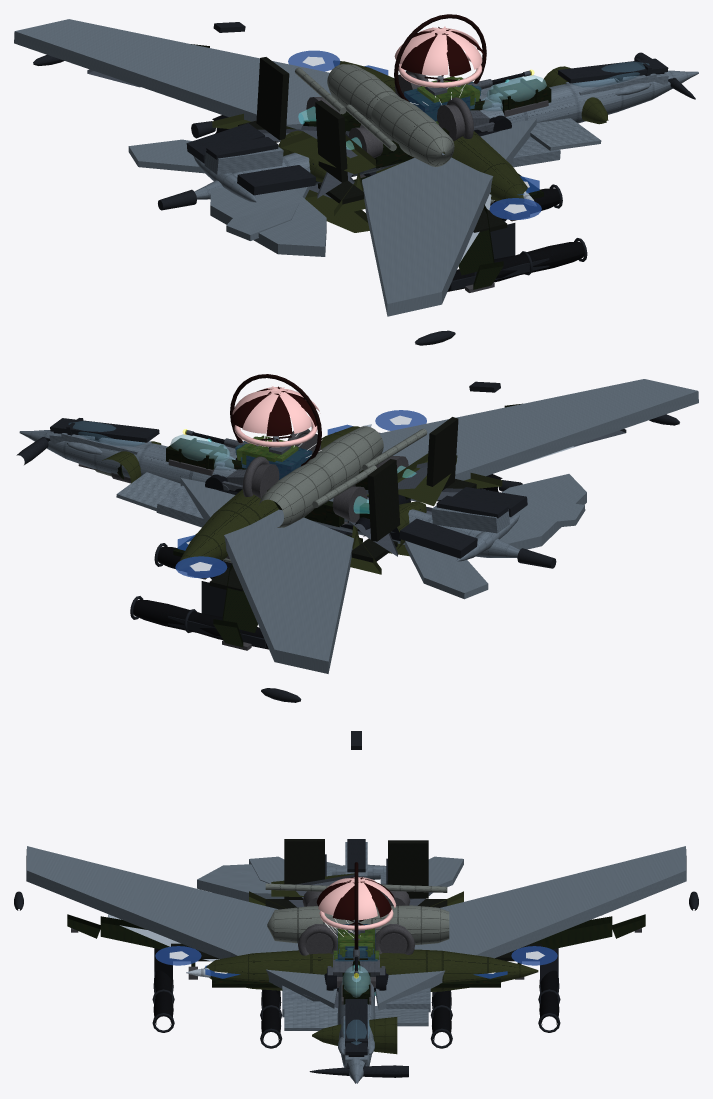
Rendered from airstrike_assets.glb.
3 views of the same model, one above another, from view 1: azimuth 30°, elevation 25°; view 2: azimuth 150°, elevation 25°; view 3: azimuth 270°, elevation 25° (orthographic). The views are drawn at different scales.
Parts seen in each view (by area): view 1: bomber_wing_right, bomber_wing_left, bomber_hull_merged, bomber_vertical_fin, warthog_engine_right, warthog_fuselage, warthog_engine_left, warthog_rudder_left, warthog_rudder_right, bomber_stab_left, bomber_tail_root_1, bomber_root_strake_1 (+35 smaller); view 2: bomber_wing_left, bomber_wing_right, bomber_hull_merged, warthog_fuselage, bomber_vertical_fin, warthog_engine_left, bomber_stab_left, warthog_engine_right, warthog_rudder_left, bomber_tail_root_0, warthog_rudder_right, bomber_cockpit_deck (+33 smaller); view 3: bomber_wing_right, bomber_wing_left, warthog_fuselage, warthog_rudder_left, warthog_engine_left, bomber_vertical_fin, warthog_rudder_right, warthog_engine_right, bomber_root_strake_1, warthog_outer_wing_left, warthog_nose_section, bomber_cockpit_deck (+15 smaller).
Part boxes in pixels (<box>): bomber_wing_right: <box>362,119,536,316</box>; bomber_wing_left: <box>14,19,488,129</box>; bomber_hull_merged: <box>194,70,698,199</box>; bomber_vertical_fin: <box>210,187,326,256</box>; warthog_engine_right: <box>371,95,454,166</box>; warthog_fuselage: <box>333,61,528,203</box>; warthog_engine_left: <box>327,64,398,123</box>; warthog_rudder_left: <box>256,57,289,140</box>; warthog_rudder_right: <box>315,100,347,182</box>; bomber_stab_left: <box>128,139,232,173</box>; bomber_tail_root_1: <box>237,165,315,195</box>; bomber_root_strake_1: <box>530,118,601,150</box>; bomber_wing_left: <box>180,478,353,673</box>; bomber_wing_right: <box>228,379,698,480</box>; bomber_hull_merged: <box>19,430,519,557</box>; warthog_fuselage: <box>177,426,359,570</box>; bomber_vertical_fin: <box>481,474,586,549</box>; warthog_engine_left: <box>258,461,334,527</box>; bomber_stab_left: <box>405,540,488,599</box>; warthog_engine_right: <box>306,426,383,488</box>; warthog_rudder_left: <box>367,459,400,541</box>; bomber_tail_root_0: <box>399,518,477,558</box>; warthog_rudder_right: <box>426,417,458,490</box>; bomber_cockpit_deck: <box>50,418,159,442</box>; bomber_wing_right: <box>26,846,337,1008</box>; bomber_wing_left: <box>375,846,686,1010</box>; warthog_fuselage: <box>204,949,538,991</box>; warthog_rudder_left: <box>388,840,428,898</box>; warthog_engine_left: <box>365,905,449,945</box>; bomber_vertical_fin: <box>197,862,340,901</box>; warthog_rudder_right: <box>284,839,324,899</box>; warthog_engine_right: <box>267,906,365,943</box>; bomber_root_strake_1: <box>284,1001,337,1030</box>; warthog_outer_wing_left: <box>532,916,612,950</box>; warthog_nose_section: <box>312,1017,397,1054</box>; bomber_cockpit_deck: <box>345,999,367,1055</box>.
Size of what is drawn, in the model's own units: 296 by 115 by 369.
Materials: 52 (32 with a texture image).
